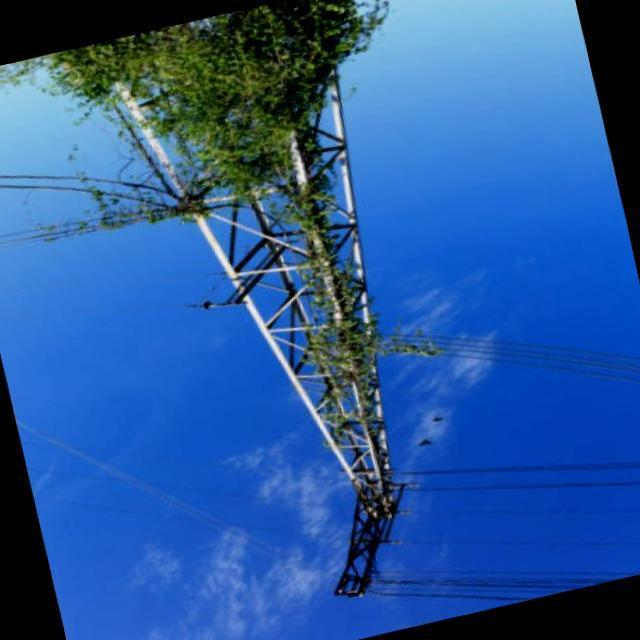critical vegetation: (64, 0, 486, 615), (121, 0, 432, 452)
